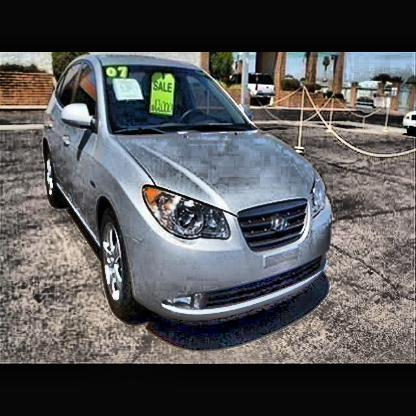Hyundai Elantra Sedan 2007: (41, 55, 334, 325)
